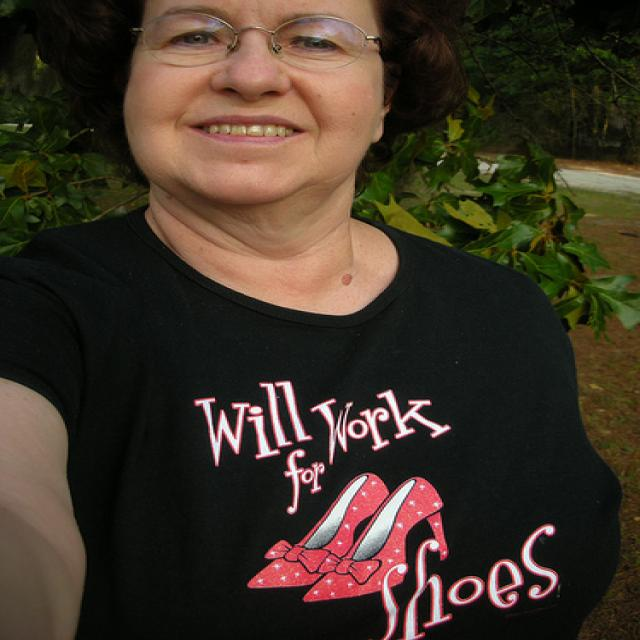T-shirt: (4, 201, 626, 640)
